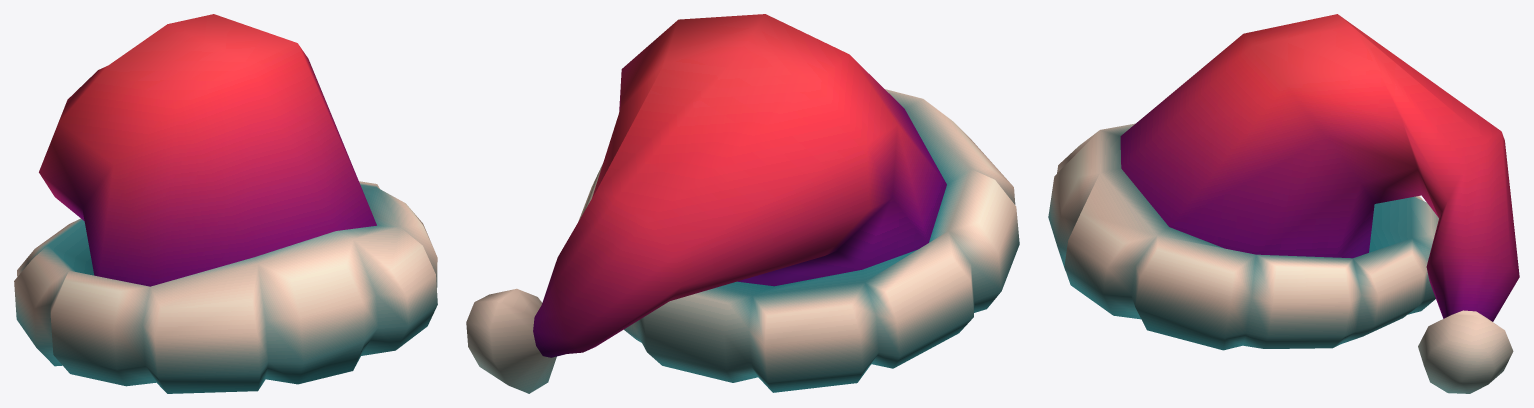
File: Santa_Hat.fbx
3 views of the same model, side by side, from view 1: azimuth 30°, elevation 25°; view 2: azimuth 150°, elevation 25°; view 3: azimuth 270°, elevation 25° (orthographic). The views are drawn at different scales.
Visible parts, largest first — view 1: SantaHat; view 2: SantaHat; view 3: SantaHat.
Part boxes in pixels (x1,y1,x2,y2): SantaHat: [14, 14, 437, 393]; SantaHat: [466, 14, 1019, 393]; SantaHat: [1048, 14, 1519, 393].
Size of the model in its own units: 3.34 by 2.61 by 3.79.
Materials: 1 (1 with a texture image).
